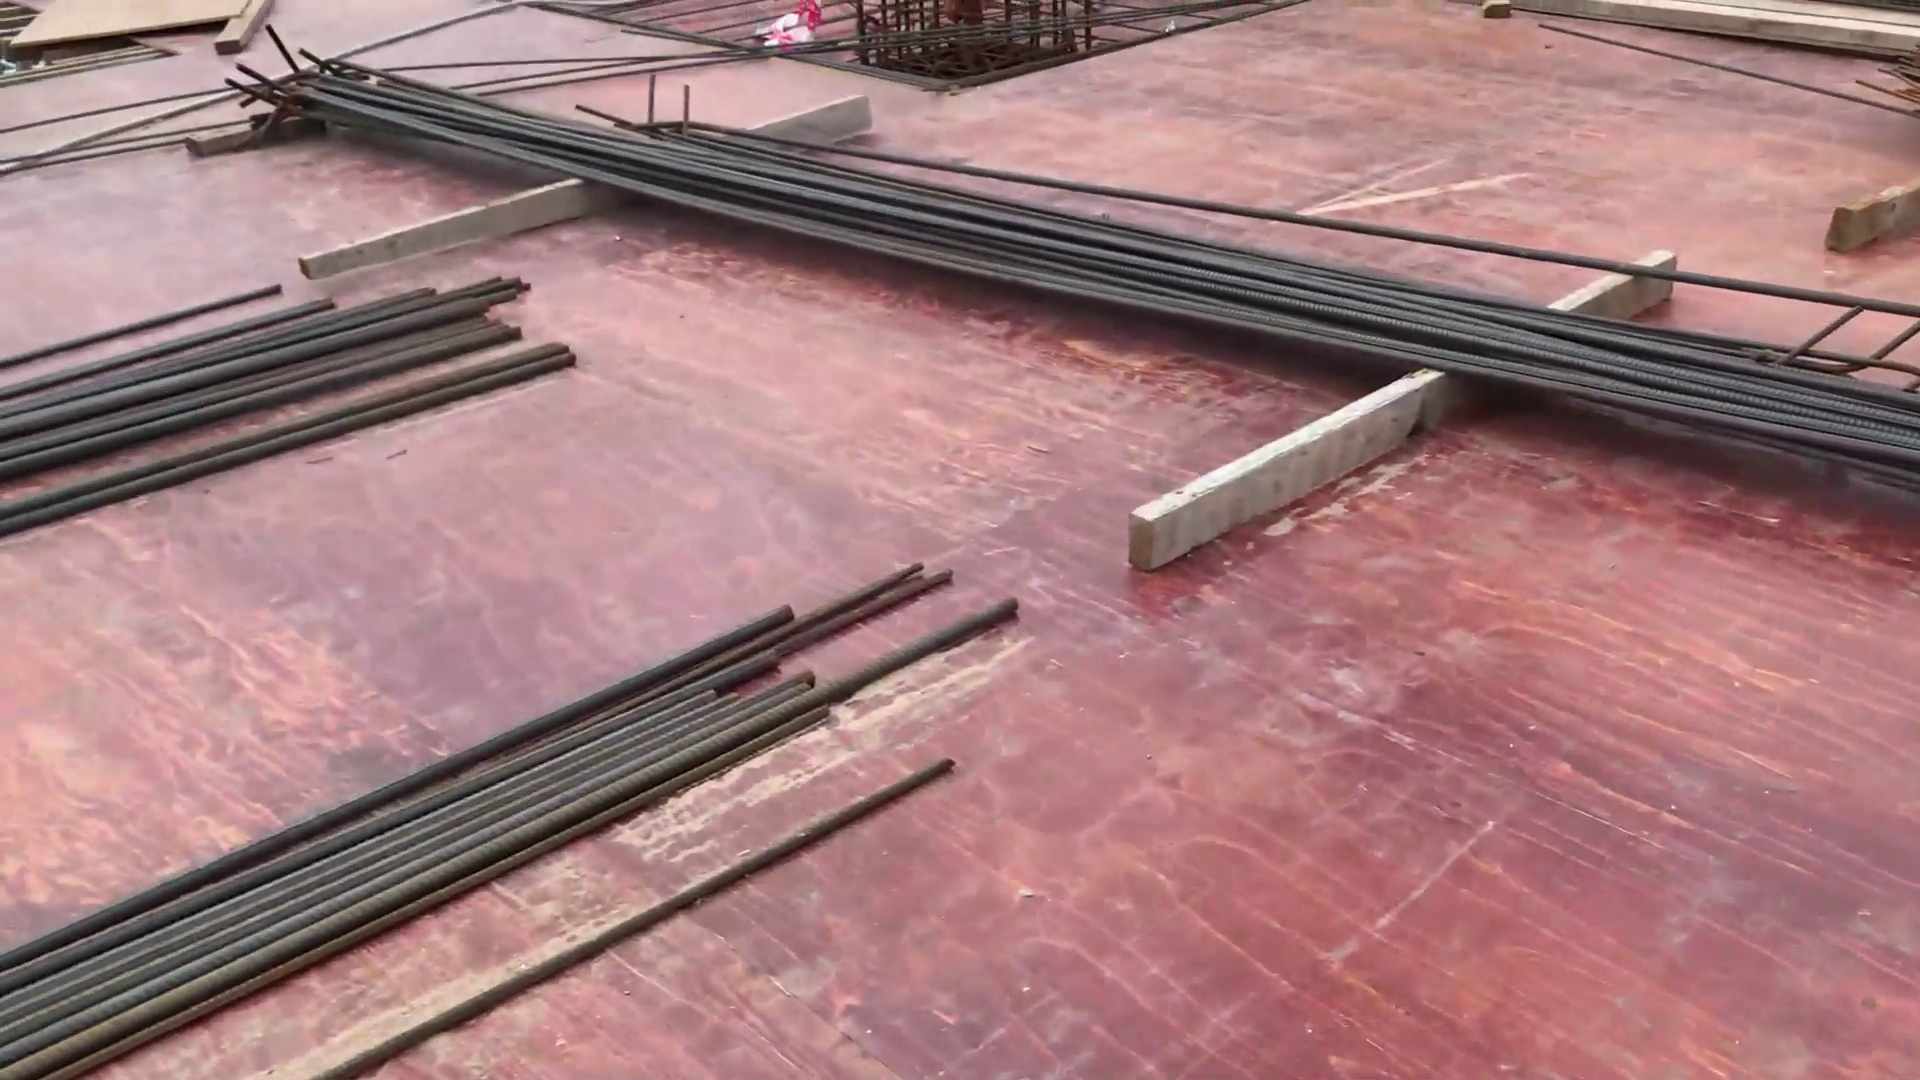rebar: (277, 40, 1920, 535), (24, 527, 1080, 1080), (13, 268, 597, 522)
